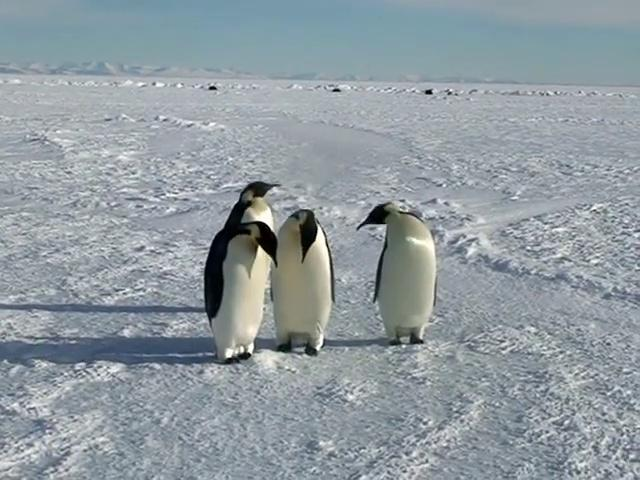animal: (359, 204, 437, 345)
